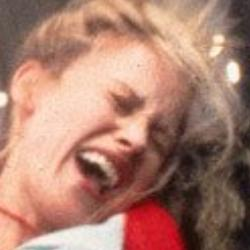face: (5, 4, 247, 237)
